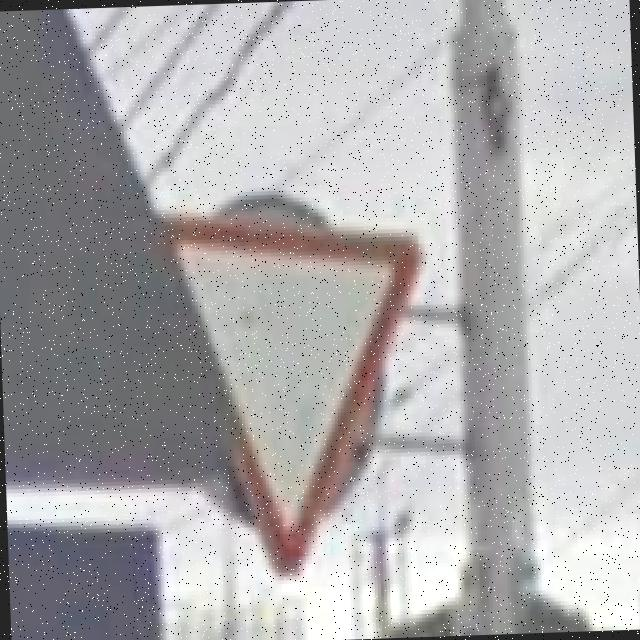Ustap pierwszenstwa: (147, 204, 436, 580)
